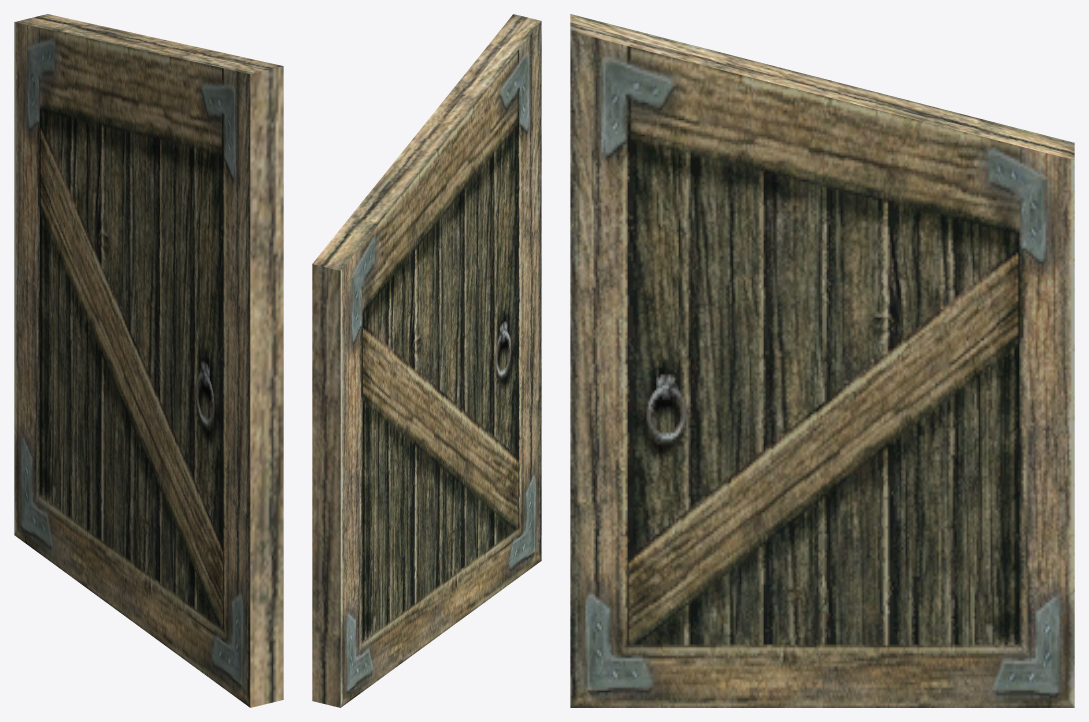
The model's file is gates.glb.
The picture shows the model from 3 angles, left to right: view 1: azimuth 30°, elevation 25°; view 2: azimuth 150°, elevation 25°; view 3: azimuth 270°, elevation 25°; orthographic projection. The views are drawn at different scales.
Parts seen in each view (by area): view 1: gates-col; view 2: gates-col; view 3: gates-col.
Part boxes in pixels (x1,y1,x2,y2): gates-col: [14, 14, 283, 707]; gates-col: [312, 14, 541, 707]; gates-col: [570, 14, 1074, 707].
Size of the model in its own units: 0.2715 by 4.93 by 3.33.
1 material, 1 textured.
